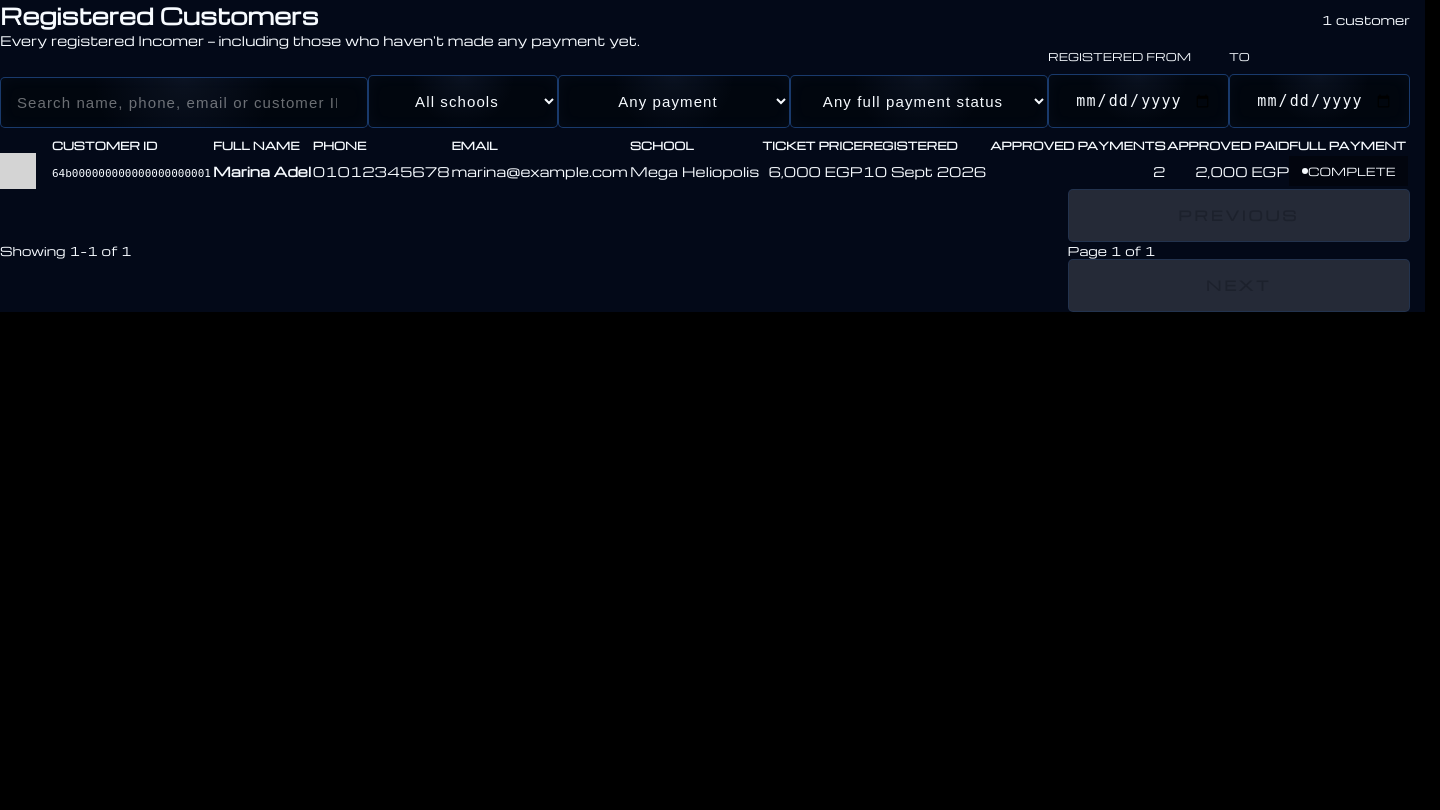
Full Payment Complete shows in the detail panel when the accountant confirmed it
Step 1. Click the text "Marina Adel" → (263, 171), box [213, 153, 313, 189]
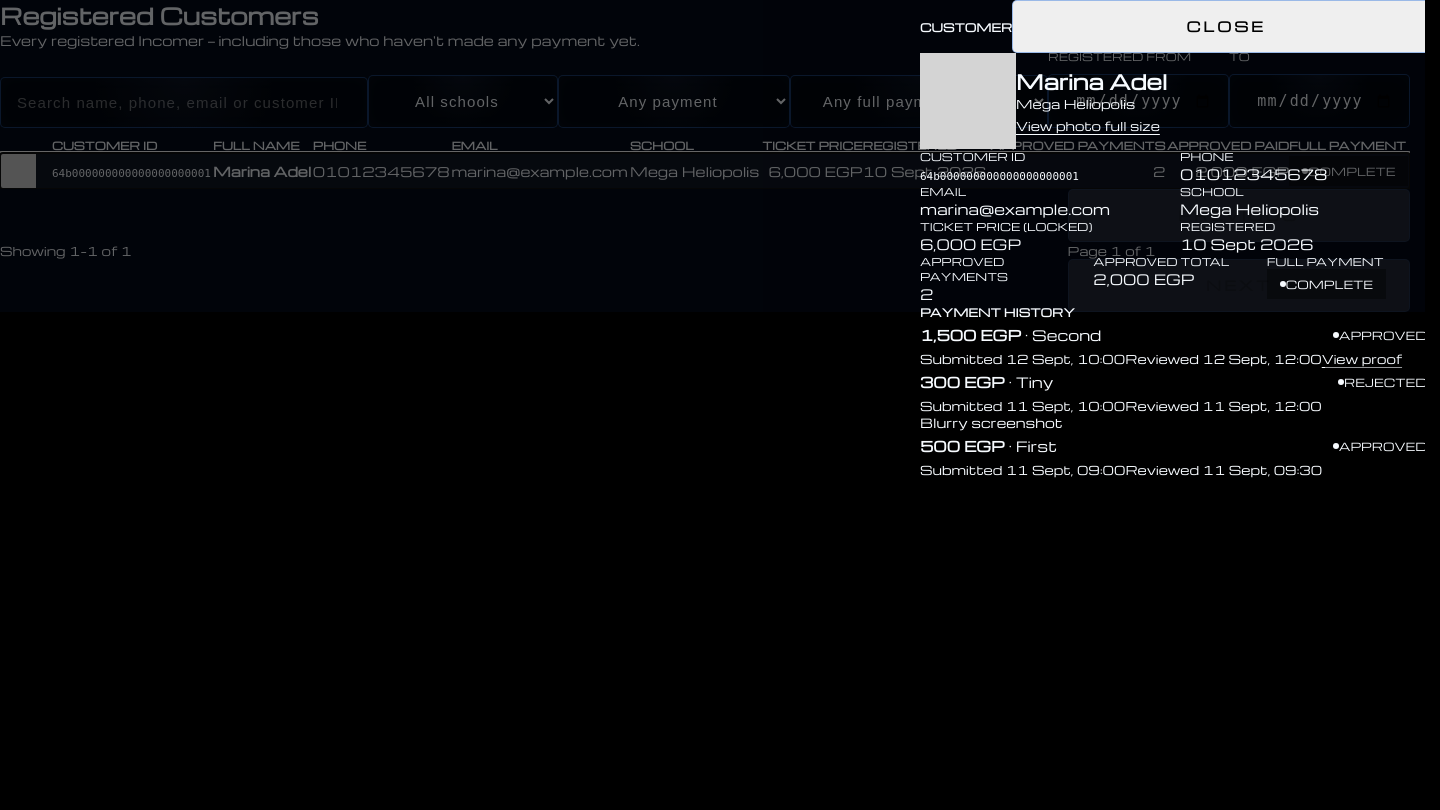
Result: the text "Complete" is shown at [1267, 269, 1386, 299]
